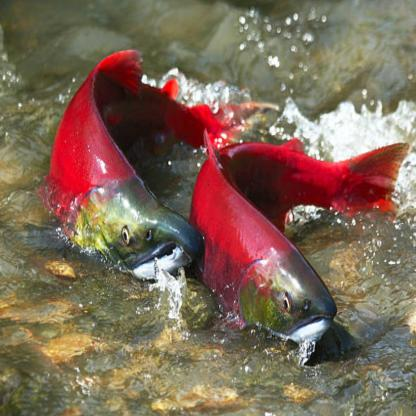sockeye: (194, 138, 408, 348), (41, 36, 195, 282)
